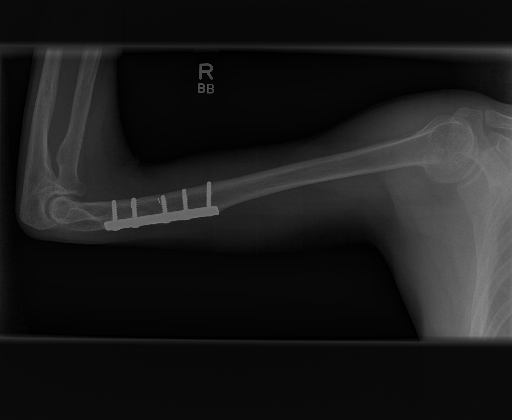implant: (101, 179, 224, 232)
